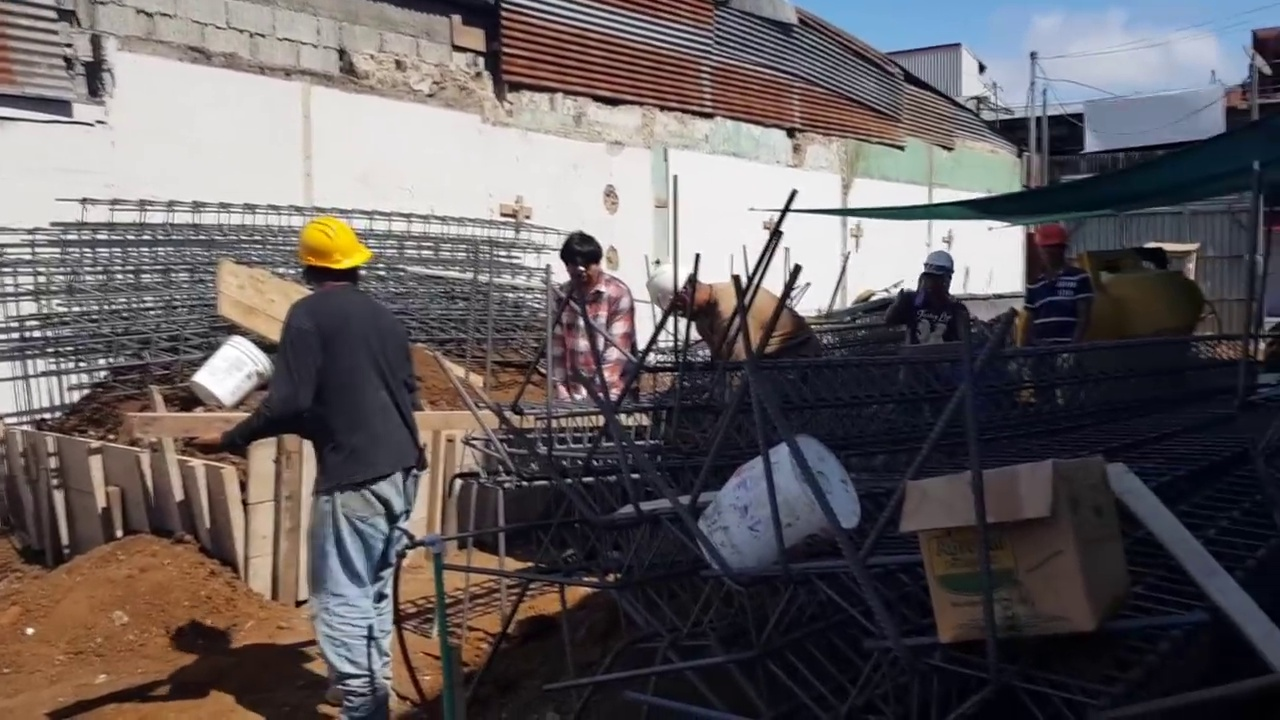helmet: (290, 217, 371, 273), (646, 260, 694, 315), (1032, 219, 1070, 249), (921, 250, 954, 281)
helmet-off: (558, 234, 602, 295)
helmet-on: (286, 219, 373, 298), (646, 266, 715, 325), (1034, 224, 1070, 274), (920, 250, 954, 294)
person: (195, 221, 418, 718), (640, 266, 823, 364), (546, 231, 632, 403), (1032, 225, 1106, 358), (881, 249, 971, 350)
